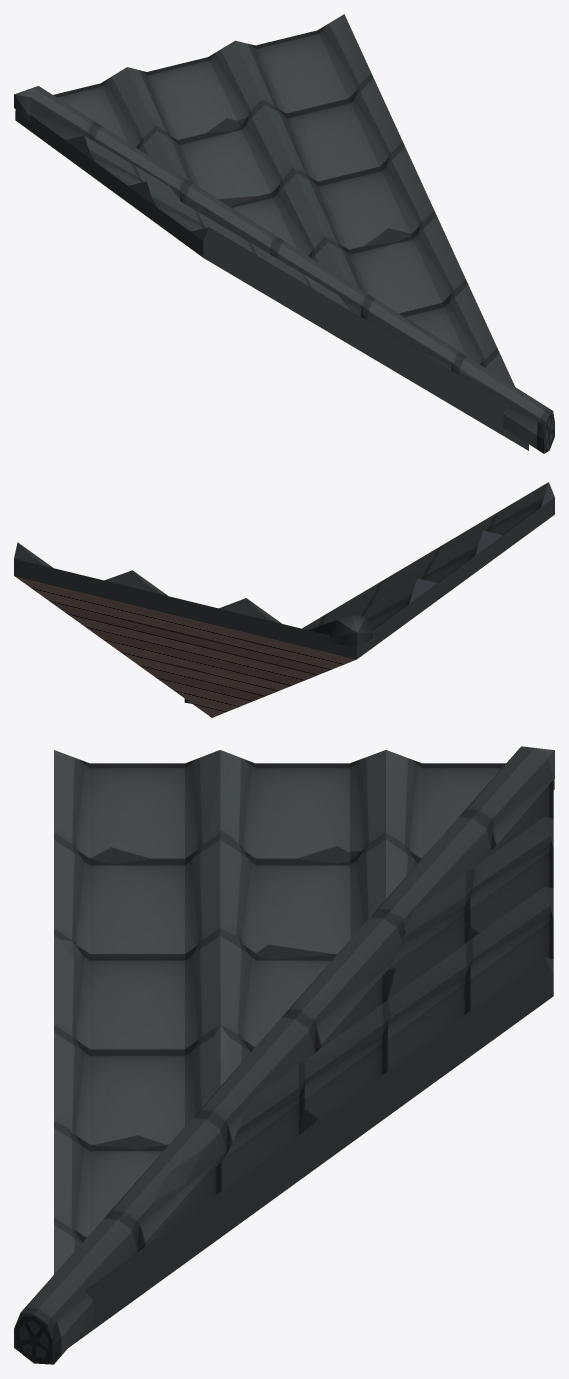
Rendered from SM_Bld_Roof_Corner_02.fbx.
The picture shows the model from 3 angles, top to bottom: view 1: azimuth 30°, elevation 25°; view 2: azimuth 150°, elevation 25°; view 3: azimuth 270°, elevation 25°; orthographic projection. The views are drawn at different scales.
Visible parts, largest first — view 1: SM_Bld_Roof_Corner_02; view 2: SM_Bld_Roof_Corner_02; view 3: SM_Bld_Roof_Corner_02.
Part boxes in pixels (bbox=[...]): SM_Bld_Roof_Corner_02: bbox=[14, 14, 554, 453]; SM_Bld_Roof_Corner_02: bbox=[14, 482, 554, 717]; SM_Bld_Roof_Corner_02: bbox=[14, 746, 554, 1364].
Bounding box in the file's own units: 271 × 225 × 271.
